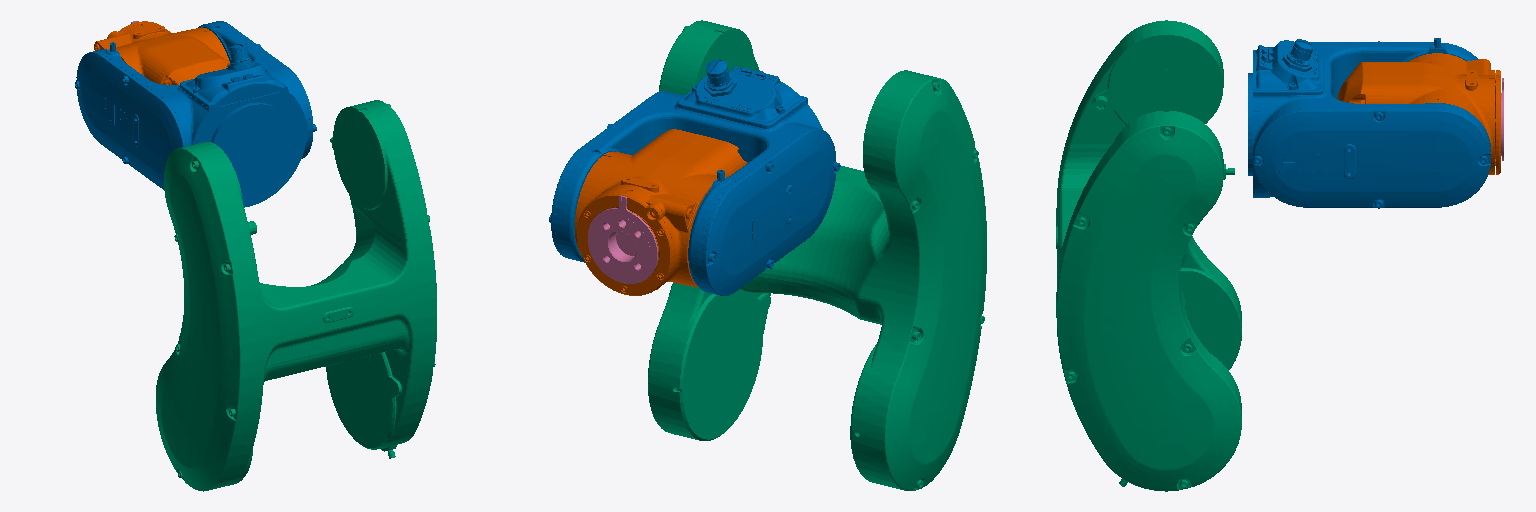
URDF robot description (IRB1010_1_5kg_370):
<?xml version="1.0" ?>
<robot name="IRB1010_1_5kg_370">

<link name="base_link">
  <inertial>
    <origin xyz="0.007414978279902329 -0.0483132373536217 0.05950830185044145" rpy="0 0 0"/>
    <mass value="20.582962138924515"/>
    <inertia ixx="0.107334" iyy="0.048566" izz="0.105477" ixy="0.014261" iyz="0.000746" ixz="0.000141"/>
  </inertial>
  <visual>
    <origin xyz="0 0 0" rpy="0 0 0"/>
    <geometry>
      <mesh filename="meshes/base_link.stl" scale="0.001 0.001 0.001"/>
    </geometry>
  </visual>
  <collision>
    <origin xyz="0 0 0" rpy="0 0 0"/>
    <geometry>
      <mesh filename="meshes/base_link.stl" scale="0.001 0.001 0.001"/>
    </geometry>
  </collision>
</link>

<link name="link_1">
  <inertial>
    <origin xyz="-0.00024503574590826625 -0.002583028745339163 0.052650029534533266" rpy="0 0 0"/>
    <mass value="9.047546395498204"/>
    <inertia ixx="0.015477" iyy="0.01918" izz="0.016762" ixy="2.4e-05" iyz="-0.000571" ixz="9.9e-05"/>
  </inertial>
  <visual>
    <origin xyz="-0.0 -0.0 -0.123" rpy="0 0 0"/>
    <geometry>
      <mesh filename="meshes/link_1.stl" scale="0.001 0.001 0.001"/>
    </geometry>
  </visual>
  <collision>
    <origin xyz="-0.0 -0.0 -0.123" rpy="0 0 0"/>
    <geometry>
      <mesh filename="meshes/link_1.stl" scale="0.001 0.001 0.001"/>
    </geometry>
  </collision>
</link>

<link name="link_2">
  <inertial>
    <origin xyz="0.05849881579894817 -0.02078814771909749 0.07983472523577334" rpy="0 0 0"/>
    <mass value="14.853907261172468"/>
    <inertia ixx="0.072736" iyy="0.128501" izz="0.079727" ixy="3.1e-05" iyz="0.002707" ixz="-0.000418"/>
  </inertial>
  <visual>
    <origin xyz="0.0587 -0.0 -0.19" rpy="0 0 0"/>
    <geometry>
      <mesh filename="meshes/link_2.stl" scale="0.001 0.001 0.001"/>
    </geometry>
  </visual>
  <collision>
    <origin xyz="0.0587 -0.0 -0.19" rpy="0 0 0"/>
    <geometry>
      <mesh filename="meshes/link_2.stl" scale="0.001 0.001 0.001"/>
    </geometry>
  </collision>
</link>

<link name="link_3">
  <inertial>
    <origin xyz="-0.06095361971698747 -0.006982971041224326 -0.00021860314485278032" rpy="0 0 0"/>
    <mass value="8.779035232978092"/>
    <inertia ixx="0.016453" iyy="0.012623" izz="0.019253" ixy="-1.7e-05" iyz="4.3e-05" ixz="1.6e-05"/>
  </inertial>
  <visual>
    <origin xyz="-0.0608 -0.0 -0.375" rpy="0 0 0"/>
    <geometry>
      <mesh filename="meshes/link_3.stl" scale="0.001 0.001 0.001"/>
    </geometry>
  </visual>
  <collision>
    <origin xyz="-0.0608 -0.0 -0.375" rpy="0 0 0"/>
    <geometry>
      <mesh filename="meshes/link_3.stl" scale="0.001 0.001 0.001"/>
    </geometry>
  </collision>
</link>

<link name="link_4">
  <inertial>
    <origin xyz="0.00124114839469878 0.05600882688570899 0.0017302844145893337" rpy="0 0 0"/>
    <mass value="5.919741496574066"/>
    <inertia ixx="0.013488" iyy="0.011685" izz="0.019333" ixy="-0.000232" iyz="0.000248" ixz="1e-06"/>
  </inertial>
  <visual>
    <origin xyz="-0.0 -0.0553 -0.375" rpy="0 0 0"/>
    <geometry>
      <mesh filename="meshes/link_4.stl" scale="0.001 0.001 0.001"/>
    </geometry>
  </visual>
  <collision>
    <origin xyz="-0.0 -0.0553 -0.375" rpy="0 0 0"/>
    <geometry>
      <mesh filename="meshes/link_4.stl" scale="0.001 0.001 0.001"/>
    </geometry>
  </collision>
</link>

<link name="link_5">
  <inertial>
    <origin xyz="0.03963987652528898 -0.012652257482868745 0.00014144085383144267" rpy="0 0 0"/>
    <mass value="3.9451158074034915"/>
    <inertia ixx="0.004666" iyy="0.003309" izz="0.00489" ixy="-2.3e-05" iyz="-2.3e-05" ixz="1.6e-05"/>
  </inertial>
  <visual>
    <origin xyz="0.0405 -0.185 -0.375" rpy="0 0 0"/>
    <geometry>
      <mesh filename="meshes/link_5.stl" scale="0.001 0.001 0.001"/>
    </geometry>
  </visual>
  <collision>
    <origin xyz="0.0405 -0.185 -0.375" rpy="0 0 0"/>
    <geometry>
      <mesh filename="meshes/link_5.stl" scale="0.001 0.001 0.001"/>
    </geometry>
  </collision>
</link>

<link name="link_6">
  <inertial>
    <origin xyz="-9.780505496374406e-15 -0.0032215722071038955 -2.4780057653162046e-05" rpy="0 0 0"/>
    <mass value="0.18055793093363143"/>
    <inertia ixx="2.8e-05" iyy="4.4e-05" izz="2.8e-05" ixy="0.0" iyz="-0.0" ixz="0.0"/>
  </inertial>
  <visual>
    <origin xyz="-0.0 -0.2233 -0.375" rpy="0 0 0"/>
    <geometry>
      <mesh filename="meshes/link_6.stl" scale="0.001 0.001 0.001"/>
    </geometry>
  </visual>
  <collision>
    <origin xyz="-0.0 -0.2233 -0.375" rpy="0 0 0"/>
    <geometry>
      <mesh filename="meshes/link_6.stl" scale="0.001 0.001 0.001"/>
    </geometry>
  </collision>
</link>

<joint name="joint_1" type="revolute">
  <origin xyz="0.0 0.0 0.123" rpy="0 0 0"/>
  <parent link="base_link"/>
  <child link="link_1"/>
  <axis xyz="0.0 0.0 -1.0"/>
  <limit lower="-2.9671" upper="2.9671" velocity="5.5851" effort="250"/>
</joint>

<joint name="joint_2" type="revolute">
  <origin xyz="-0.0587 0.0 0.067" rpy="0 0 0"/>
  <parent link="link_1"/>
  <child link="link_2"/>
  <axis xyz="-1.0 0.0 0.0"/>
  <limit lower="-1.3080" upper="2.1817" velocity="5.5851" effort="200"/>
</joint>

<joint name="joint_3" type="revolute">
  <origin xyz="0.1195 0.0 0.185" rpy="0 0 0"/>
  <parent link="link_2"/>
  <child link="link_3"/>
  <axis xyz="-1.0 0.0 0.0"/>
  <limit lower="-3.1416" upper="0.8727" velocity="6.5449" effort="150"/>
</joint>

<joint name="joint_4" type="revolute">
  <origin xyz="-0.0608 0.0553 0.0" rpy="0 0 0"/>
  <parent link="link_3"/>
  <child link="link_4"/>
  <axis xyz="0.0 -1.0 0.0"/>
  <limit lower="-2.9671" upper="2.9671" velocity="8.7266" effort="100"/>
</joint>

<joint name="joint_5" type="revolute">
  <origin xyz="-0.0405 0.1297 0.0" rpy="0 0 0"/>
  <parent link="link_4"/>
  <child link="link_5"/>
  <axis xyz="-1.0 0.0 0.0"/>
  <limit lower="-2.1817" upper="2.1817" velocity="8.1995" effort="80"/>
</joint>

<joint name="joint_6" type="revolute">
  <origin xyz="0.0405 0.0383 0.0" rpy="0 0 0"/>
  <parent link="link_5"/>
  <child link="link_6"/>
  <axis xyz="0.0 -1.0 0.0"/>
  <limit lower="-6.2832" upper="6.2832" velocity="8.7266" effort="60"/>
</joint>

<link name="flange">
</link>

<link name="tool0">
</link>

<joint name="joint_6-flange" type="fixed">
  <origin xyz="0.0 -0.0383 0.0" rpy="0 0 0"/>
  <parent link="link_6"/>
  <child link="flange"/>
</joint>

<joint name="flange-tool0" type="fixed">
  <origin xyz="0.0 0.0 0.0" rpy="0 0 0"/>
  <parent link="flange"/>
  <child link="tool0"/>
</joint>

</robot>

--- What the picture shows (computed from the rendered views, not written in the file) ---
The picture shows the robot from 3 angles, left to right: view 1: azimuth 30°, elevation 25°; view 2: azimuth 150°, elevation 25°; view 3: azimuth 270°, elevation 25°; orthographic projection.
Robot: IRB1010_1_5kg_370 — 9 links, 8 joints (6 revolute, 2 fixed); root link base_link; default pose: every joint at zero.
Visible links, largest first — view 1: link_2, link_4, link_5; view 2: link_2, link_4, link_5, link_6; view 3: link_2, link_4, link_5.
Link boxes in pixels (x1,y1,x2,y2): link_2: [156, 100, 436, 491]; link_4: [75, 21, 316, 207]; link_5: [94, 21, 229, 84]; link_2: [648, 20, 986, 490]; link_4: [549, 59, 840, 295]; link_5: [575, 129, 747, 295]; link_6: [588, 195, 657, 283]; link_2: [1056, 20, 1241, 491]; link_4: [1248, 38, 1490, 208]; link_5: [1337, 53, 1500, 174].
Bounding box of the posed robot: 0.184 × 0.3052 × 0.3065 m (x, y, z).
Meshes: 7 distinct files referenced, 4 mesh visuals loaded (4 binary STL); not drawn: 3 (reference not matched to a file when rendering).